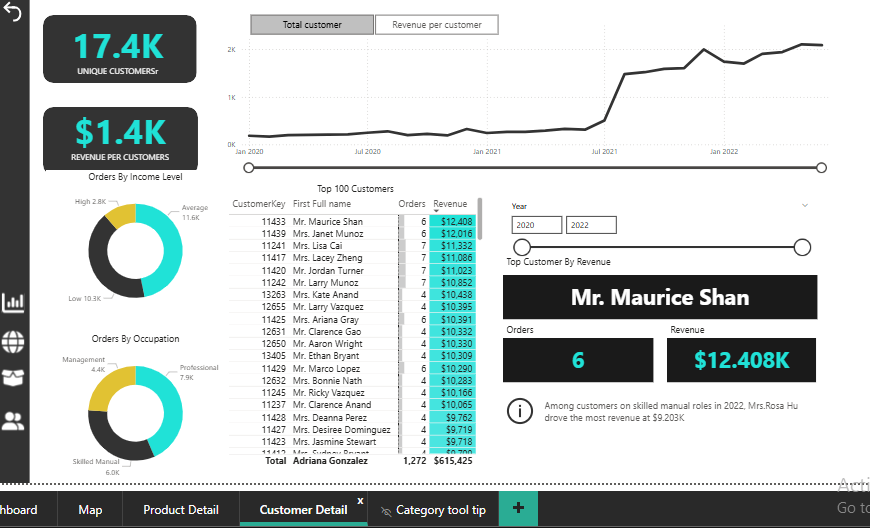

What the dashboard file says about the page in this screenshot:
{"tool":"powerbi","page":{"name":"Customer Detail","canvas":[1280,720],"ordinal":3},"visuals":[{"type":"shape","box":[0,0,45,720.7],"z":0},{"type":"actionButton","box":[0,434.9,119,41.1],"z":0,"group":"g1"},{"type":"shape","box":[65.1,32.8,225.9,100],"z":1000},{"type":"actionButton","box":[0,492.2,119,41.1],"z":1000,"group":"g1"},{"type":"card","fields":{"Values":["Measure tables(DAX).Total customer"]},"box":[22.2,7.9,304.8,149.2],"z":2000},{"type":"actionButton","box":[0,545.1,119,41.1],"z":2000,"group":"g1"},{"type":"shape","box":[64.6,167.7,227.7,100],"z":3000},{"type":"actionButton","box":[0,608.3,119,41.1],"z":3000,"group":"g1"},{"type":"card","fields":{"Values":["Measure tables(DAX).Average revenue per customer"]},"box":[24.6,141.5,306.2,133.8],"z":4000},{"type":"lineChart","title":"Customers Trending","fields":{"Category":["Calendar Lookup.Date Hierarchy.Start of Year","Calendar Lookup.Date Hierarchy.Start of Month","Calendar Lookup.Date Hierarchy.Start of Week"],"Y":["Measure tables(DAX).Total customer"]},"box":[330.8,33.8,904.6,233.8],"z":5000},{"type":"donutChart","title":"Orders By Income Level","fields":{"Category":["Customer Lookup.Income level"],"Y":["Measure tables(DAX).Total orders"]},"box":[69.1,260.1,263,220.4],"z":6000},{"type":"donutChart","title":"Orders By Occupation","fields":{"Y":["Measure tables(DAX).Total orders"],"Category":["Customer Lookup.Occupation"]},"box":[69.1,498.1,263,221.9],"z":7000},{"type":"tableEx","title":"Top 100 Customers ","fields":{"Values":["Customer Lookup.CustomerKey","Min(Customer Lookup.Full name)","Measure tables(DAX).Total orders","Measure tables(DAX).Total revenue"]},"box":[332.1,277.7,383.5,421.7],"z":8000},{"type":"card","fields":{"Values":["Measure tables(DAX).Full name (customer detail)"]},"box":[739.9,414.5,461.5,65.4],"z":9000},{"type":"card","fields":{"Values":["Measure tables(DAX).Total revenue (customer detail)"]},"box":[982.2,506.8,219.2,65.4],"z":10000},{"type":"card","fields":{"Values":["Measure tables(DAX).Total orders (customer detail)"]},"box":[739.9,506.8,220.5,65.4],"z":11000},{"type":"textbox","box":[739.9,379.9,220.5,34.6],"z":12000},{"type":"textbox","box":[982.2,479.9,220.5,34.6],"z":13000},{"type":"textbox","box":[739.9,479.9,220.5,34.6],"z":14000},{"type":"slicer","fields":{"Values":["Calendar Lookup.Year"]},"box":[740.6,299.8,461.4,88.2],"z":15000},{"type":"actionButton","box":[740.6,589.2,459.9,50],"z":16000},{"type":"actionButton","box":[0,7.3,99.9,39.7],"z":17000},{"type":"group","id":"g1","title":"Navigation Button","box":[0,434.9,119,214.5],"z":18000},{"type":"slicer","fields":{"Values":["Customer Metric Selection.Customer Metric Selection"]},"box":[343.8,25,414.4,42.6],"z":18001}]}

Visuals, with their boxes on the page's 1280x720 design canvas (x1, y1, x2, y2). These are canvas units, not pixel positions in the 870x528 screenshot, which may show the page scaled, cropped or inside an application window:
shape: bbox=(0, 0, 45, 721)
actionButton: bbox=(0, 435, 119, 476)
shape: bbox=(65, 33, 291, 133)
actionButton: bbox=(0, 492, 119, 533)
card - Measure tables(DAX).Total customer: bbox=(22, 8, 327, 157)
actionButton: bbox=(0, 545, 119, 586)
shape: bbox=(65, 168, 292, 268)
actionButton: bbox=(0, 608, 119, 649)
card - Measure tables(DAX).Average revenue per customer: bbox=(25, 142, 331, 275)
"Customers Trending" lineChart: bbox=(331, 34, 1235, 268)
"Orders By Income Level" donutChart: bbox=(69, 260, 332, 480)
"Orders By Occupation" donutChart: bbox=(69, 498, 332, 720)
"Top 100 Customers " tableEx: bbox=(332, 278, 716, 699)
card - Measure tables(DAX).Full name (customer detail): bbox=(740, 414, 1201, 480)
card - Measure tables(DAX).Total revenue (customer detail): bbox=(982, 507, 1201, 572)
card - Measure tables(DAX).Total orders (customer detail): bbox=(740, 507, 960, 572)
textbox: bbox=(740, 380, 960, 414)
textbox: bbox=(982, 480, 1203, 514)
textbox: bbox=(740, 480, 960, 514)
slicer - Calendar Lookup.Year: bbox=(741, 300, 1202, 388)
actionButton: bbox=(741, 589, 1200, 639)
actionButton: bbox=(0, 7, 100, 47)
"Navigation Button" group: bbox=(0, 435, 119, 649)
slicer - Customer Metric Selection.Customer Metric Selection: bbox=(344, 25, 758, 68)
